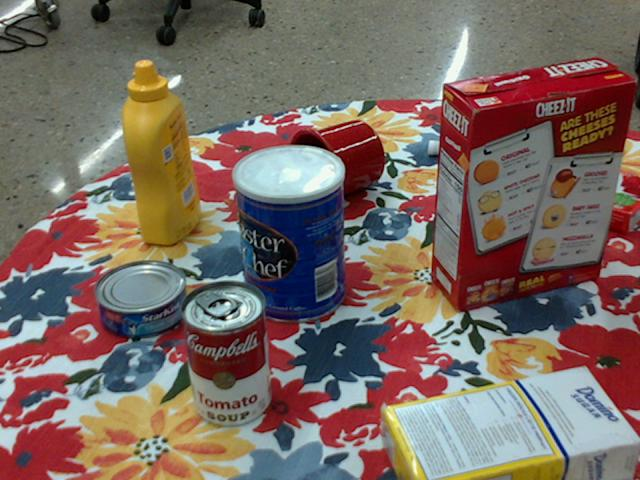cracker_box: (434, 59, 637, 312)
gelatin_box: (564, 166, 639, 233)
large_marker: (428, 140, 525, 161)
master_chef_can: (232, 144, 344, 323)
mug: (286, 120, 384, 209)
mustard_bottle: (122, 61, 200, 245)
sugar_box: (381, 365, 639, 479)
tomato_soup_can: (179, 279, 269, 426)
tuna_fish_can: (93, 258, 187, 336)
